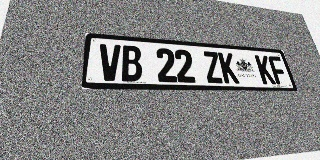2: (174, 49, 196, 83), (156, 48, 177, 82)
B: (121, 45, 143, 82)
F: (267, 56, 289, 85)
K: (218, 52, 240, 84), (254, 55, 276, 84)
V: (98, 43, 121, 81)
Z: (202, 51, 224, 83)
